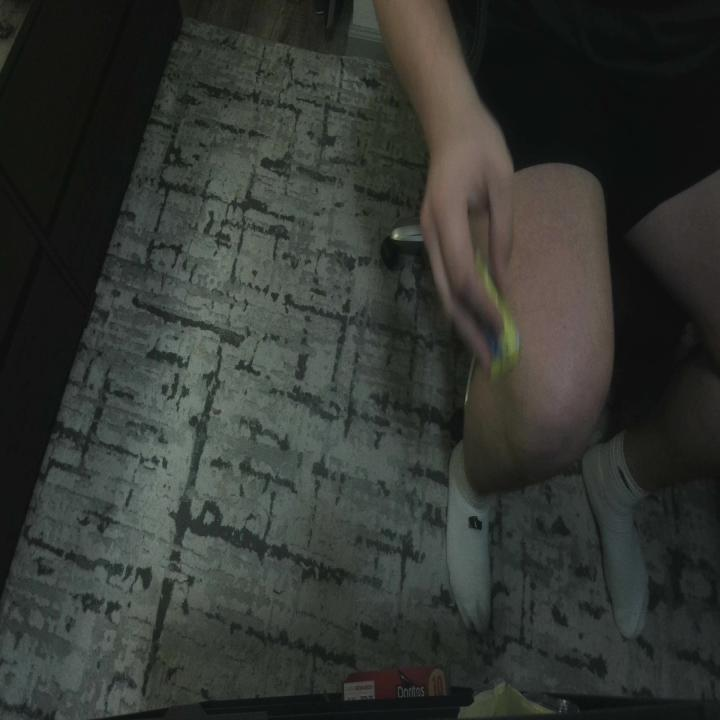Butter Finger: (441, 223, 536, 395)
